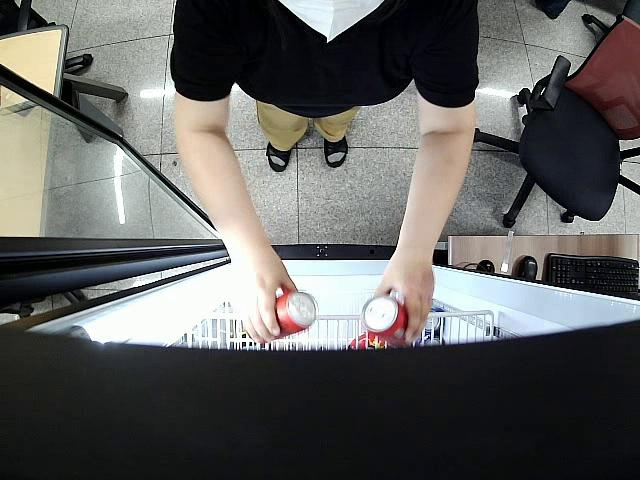00_hand: (230, 251, 300, 341), (373, 253, 435, 341)
11_cocaColaZero: (268, 289, 320, 339), (362, 296, 409, 345)
